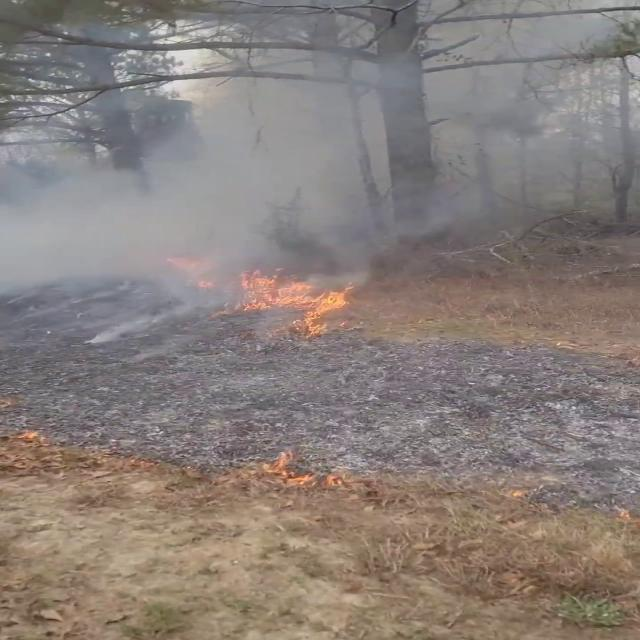Fire: (233, 264, 363, 336)
Smoke: (4, 15, 626, 330)
